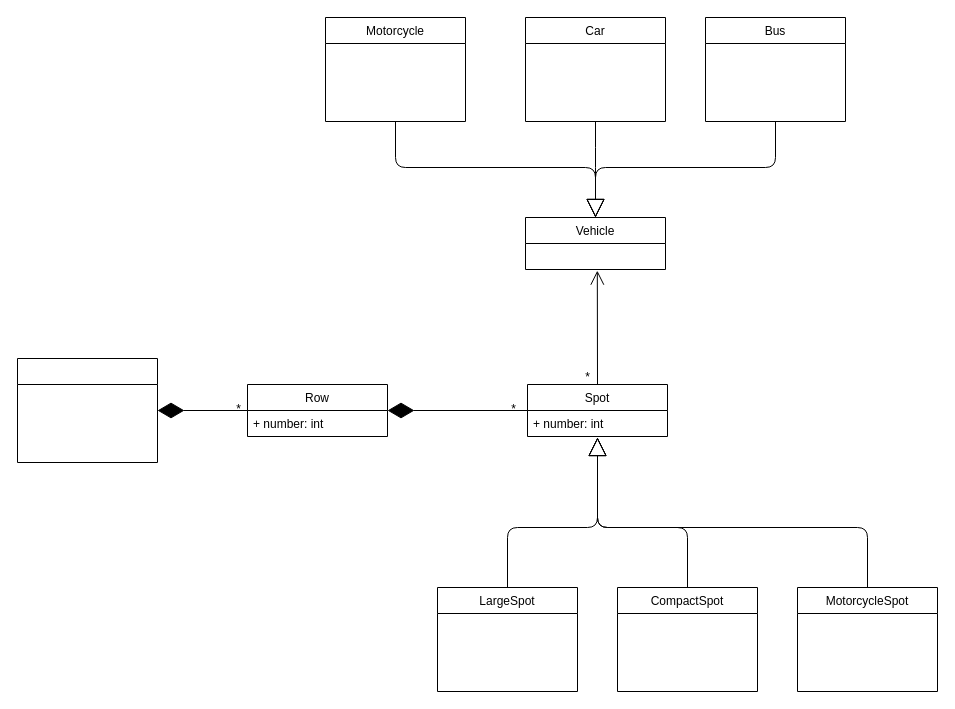
Image size: 955x709. Some labels were removed from this diagram. The shapes that lost their labels are listed below. From the top down, each one's centre as x and y in pixels, then its label:
At [595,243]: "+ licencePlates: String".
At [87,410]: "ParkingLot".
